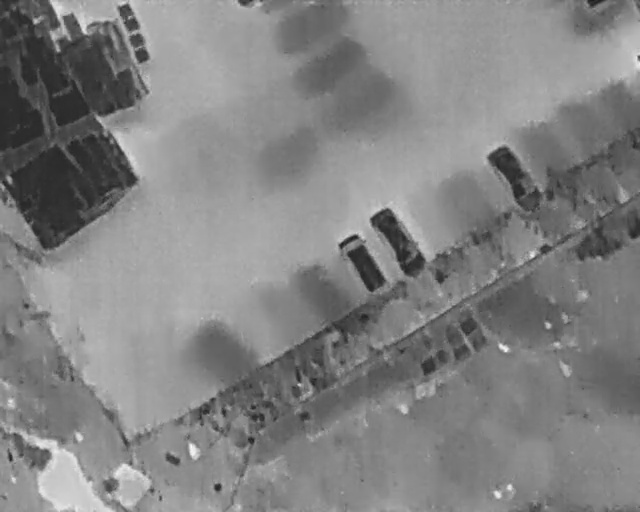Car: (364, 202, 432, 282), (484, 139, 551, 218), (334, 228, 392, 300)
